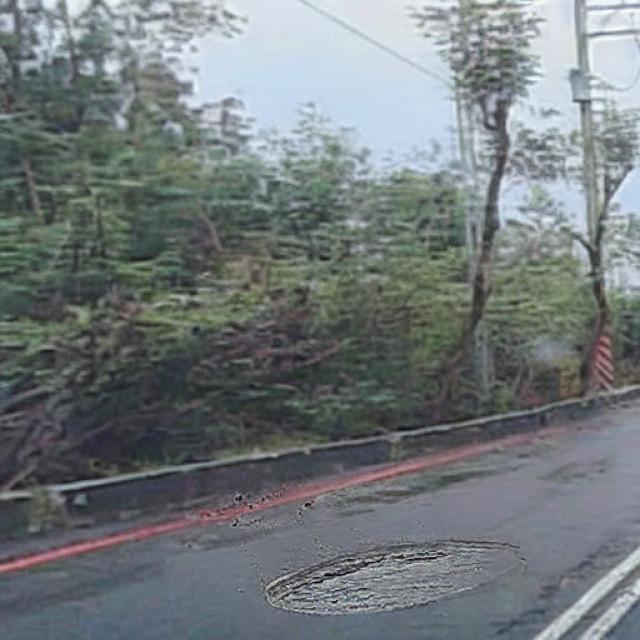puddle: (262, 539, 524, 620)
